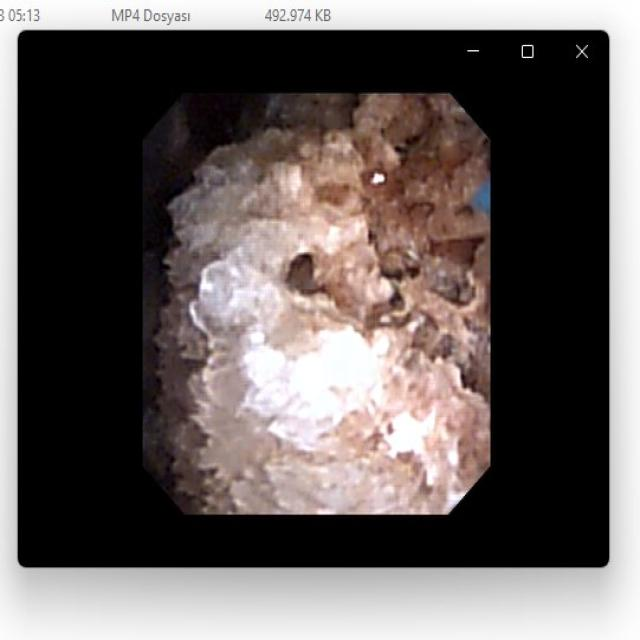stone: (157, 102, 485, 508)
